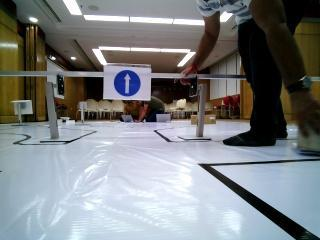straight: (101, 65, 156, 98)
